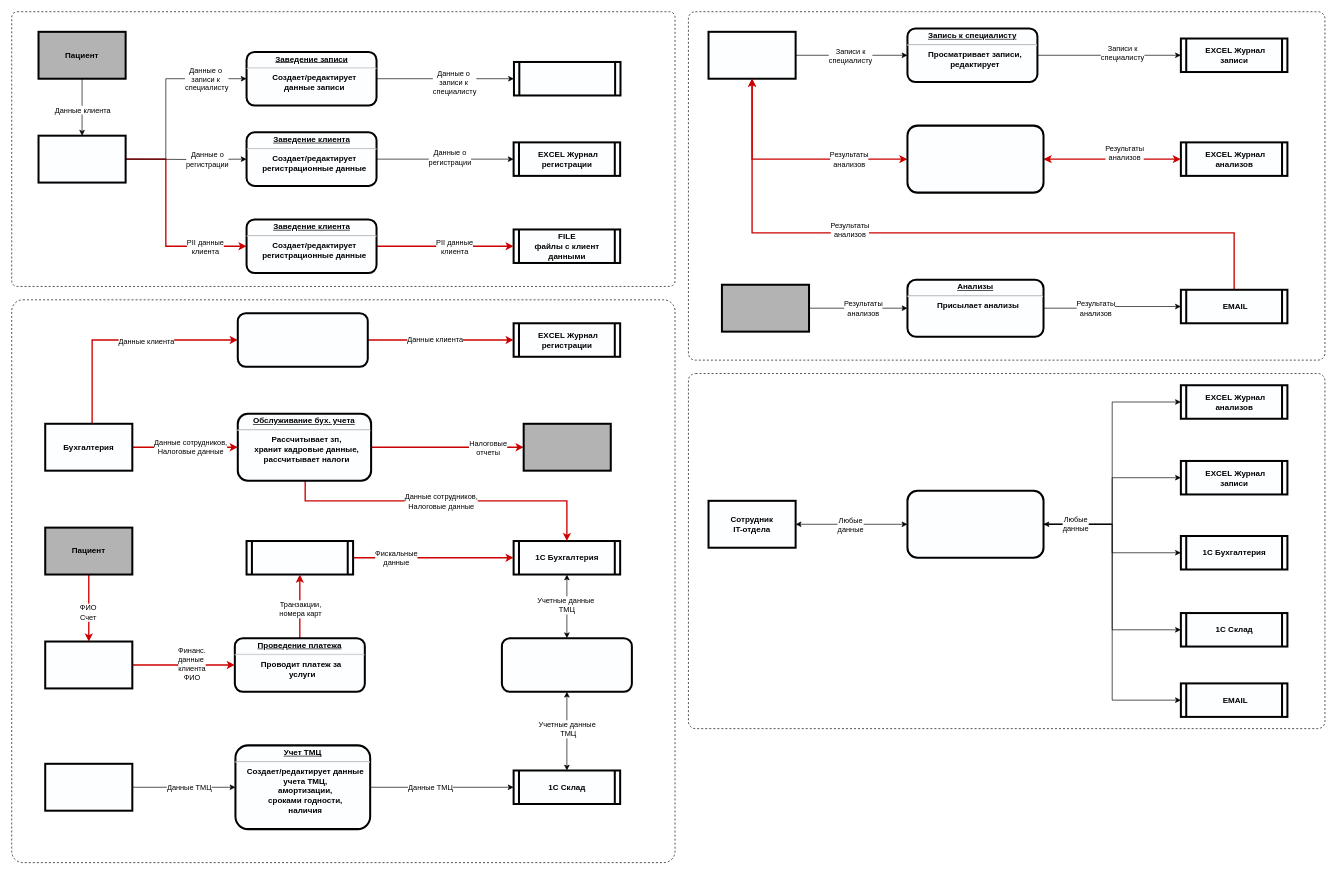
Image size: 1337x874. Some labels were removed from this diagram. The shapes that lost their labels are listed below. From the top down, each one's centre as x and y in pixels, then its label:
At [751,54]: "Медицинские специалисты".
At [567,78]: "EXCEL Журнал записей".
At [81,158]: "Ресепшен".
At [975,158]: "Анализы Создает/просматривает запись по результатам анализов".
At [765,307]: "Медицинская лаборатория".
At [302,339]: "Заведение клиента Просматривает данные клиента".
At [566,446]: "Госорганы".
At [975,523]: "Поддержка Обеспечивает доступность и целостность данных".
At [299,557]: "ККМ".
At [88,664]: "Кассиры".
At [567,664]: "Обмен файлами Внутрисистемный обмен".
At [88,786]: "Сотрудник Склада".
